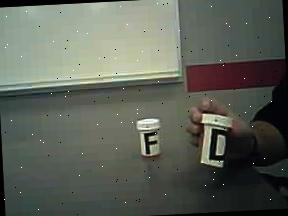Bottle D: (190, 109, 238, 174)
Bottle F: (133, 117, 169, 161)
